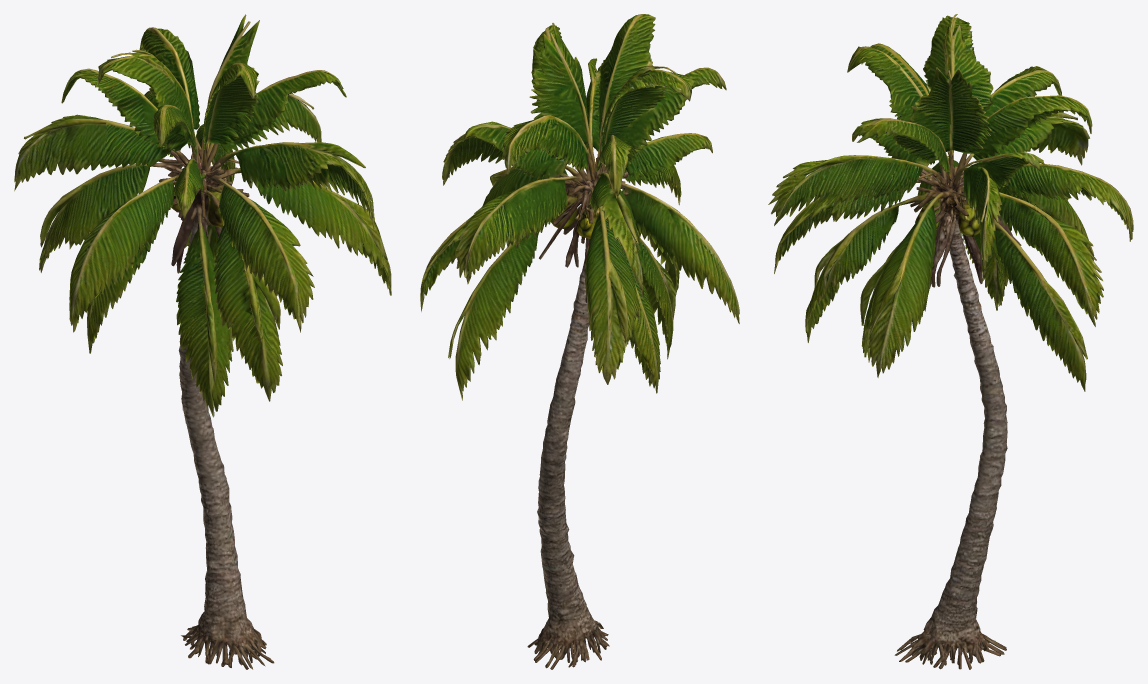
The model's file is SM_PalmTree.glb.
3 renders of one model, left to right at view 1: azimuth 30°, elevation 25°; view 2: azimuth 150°, elevation 25°; view 3: azimuth 270°, elevation 25°, orthographic. The views are drawn at different scales.
Visible parts, largest first — view 1: tripo_node_db0a145d-a4ec-4f0e-97be-0cc15c11610b; view 2: tripo_node_db0a145d-a4ec-4f0e-97be-0cc15c11610b; view 3: tripo_node_db0a145d-a4ec-4f0e-97be-0cc15c11610b.
Boxes of the visible parts, <box> form: tripo_node_db0a145d-a4ec-4f0e-97be-0cc15c11610b: <box>14,14,391,669</box>; tripo_node_db0a145d-a4ec-4f0e-97be-0cc15c11610b: <box>420,14,739,669</box>; tripo_node_db0a145d-a4ec-4f0e-97be-0cc15c11610b: <box>768,14,1133,669</box>.
Bounding box in the file's own units: 0.4729 × 0.979 × 0.5394.
Materials: 1 (1 with a texture image).
